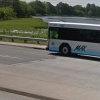Bus: (42, 15, 100, 58)
